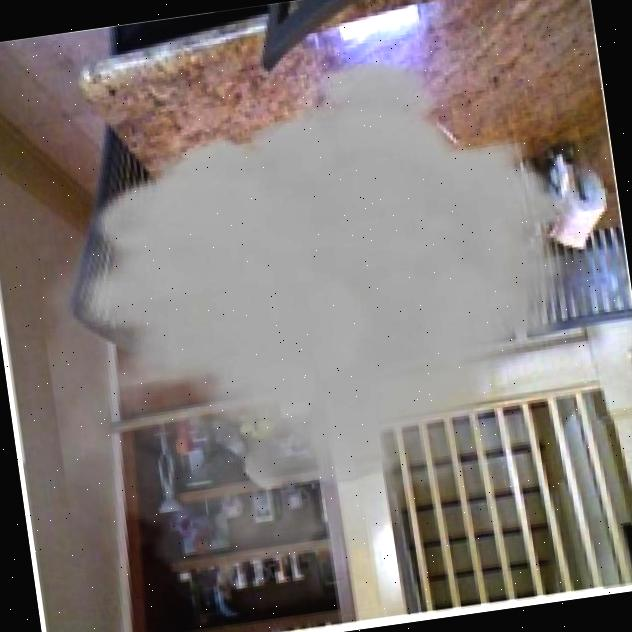smoke: (12, 28, 622, 632)
